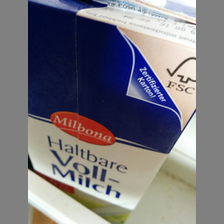milk: (27, 1, 197, 214)
